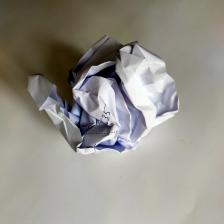Paper: (28, 29, 177, 163)
